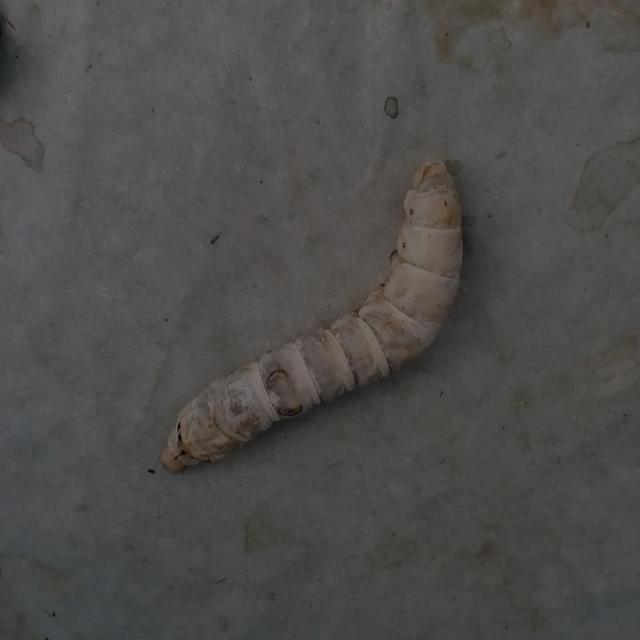Grasserie: (141, 150, 500, 483)
